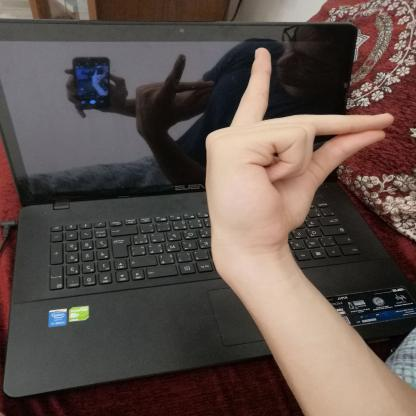TAA: (187, 40, 404, 263)
